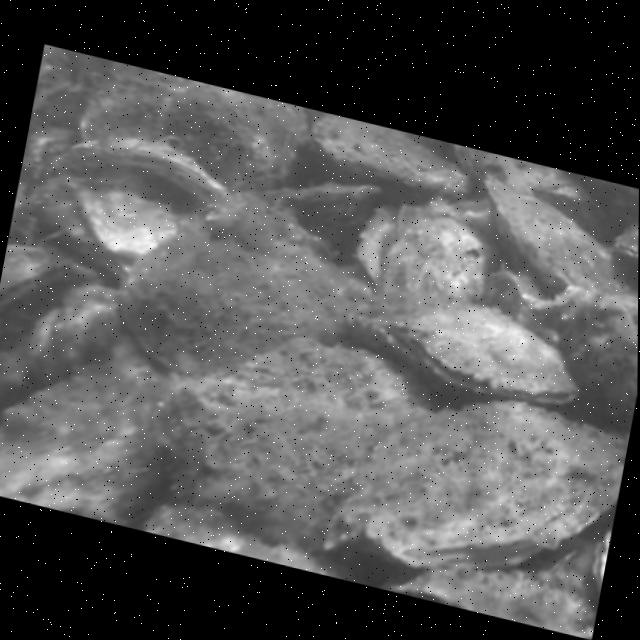Oyster-Closed: (353, 299, 578, 406), (591, 529, 612, 587), (453, 198, 490, 224)
Oyster-Indeterminate: (151, 337, 440, 539), (338, 399, 628, 566), (119, 223, 375, 378), (0, 359, 188, 526), (83, 62, 304, 189), (0, 284, 179, 425), (485, 272, 638, 433), (379, 533, 597, 639), (486, 176, 638, 296), (148, 502, 345, 579), (454, 144, 609, 240), (355, 200, 495, 302), (313, 113, 469, 197), (64, 138, 229, 201), (256, 183, 383, 253), (78, 168, 176, 252), (0, 243, 75, 315), (28, 43, 78, 132), (613, 225, 639, 269)
